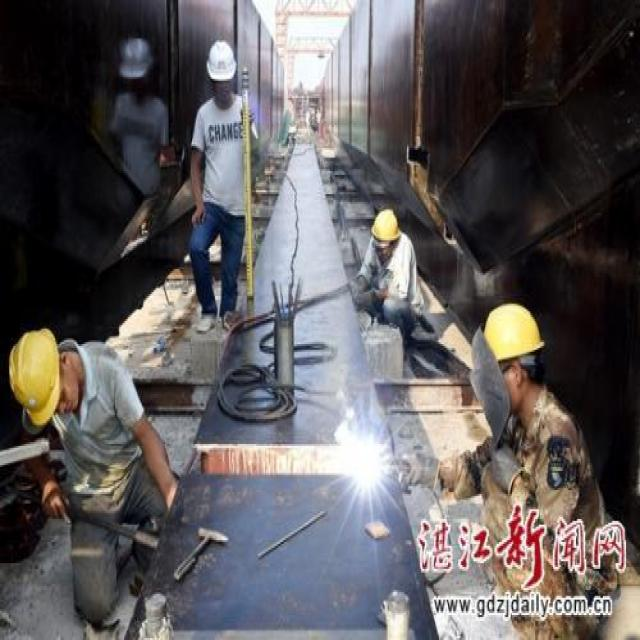hat: (482, 294, 551, 413), (8, 323, 74, 425), (205, 36, 240, 99), (366, 204, 402, 262)
